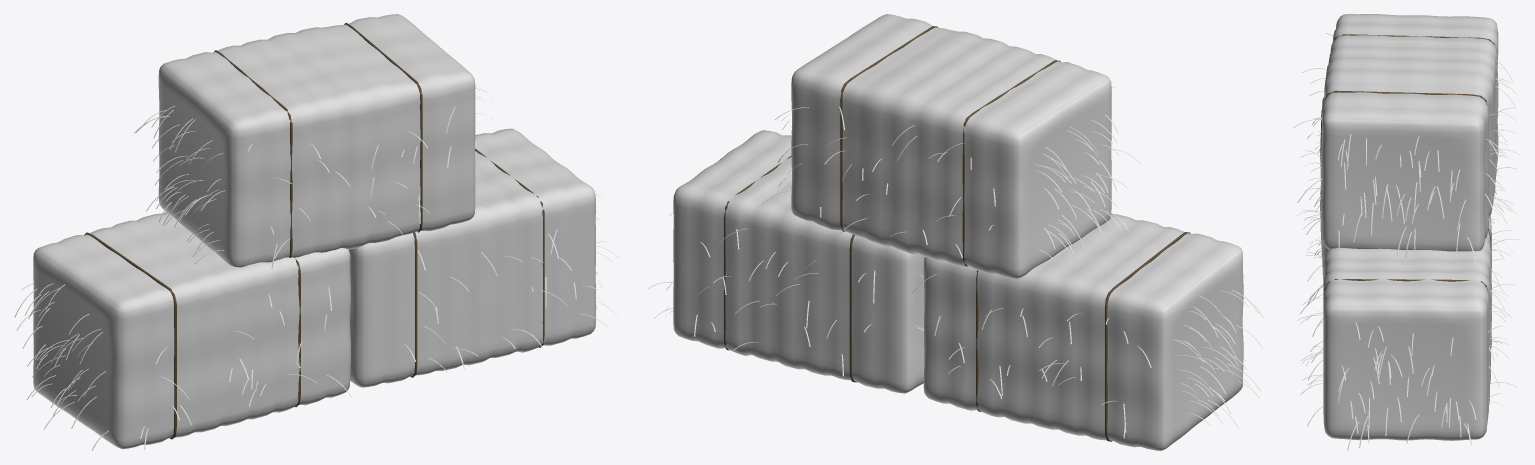
The model's file is SilverbrookPropHayBales.glb.
The picture shows the model from 3 angles, left to right: view 1: azimuth 30°, elevation 25°; view 2: azimuth 150°, elevation 25°; view 3: azimuth 270°, elevation 25°; orthographic projection. The views are drawn at different scales.
Visible parts, largest first — view 1: SM_SBPropHayBales_Bales, SM_SBPropHayBales_Stalks, SM_SBPropHayBales_Twine; view 2: SM_SBPropHayBales_Bales, SM_SBPropHayBales_Stalks, SM_SBPropHayBales_Twine; view 3: SM_SBPropHayBales_Bales, SM_SBPropHayBales_Stalks, SM_SBPropHayBales_Twine.
Boxes of the visible parts, <box> form: SM_SBPropHayBales_Bales: <box>33,14,596,449</box>; SM_SBPropHayBales_Stalks: <box>14,84,618,450</box>; SM_SBPropHayBales_Twine: <box>84,23,544,439</box>; SM_SBPropHayBales_Bales: <box>673,14,1243,450</box>; SM_SBPropHayBales_Stalks: <box>648,86,1263,438</box>; SM_SBPropHayBales_Twine: <box>724,26,1190,441</box>; SM_SBPropHayBales_Bales: <box>1320,14,1498,440</box>; SM_SBPropHayBales_Stalks: <box>1292,33,1520,450</box>; SM_SBPropHayBales_Twine: <box>1321,34,1494,291</box>.
Size of the model in its own units: 2.18 by 1.15 by 0.8513.
